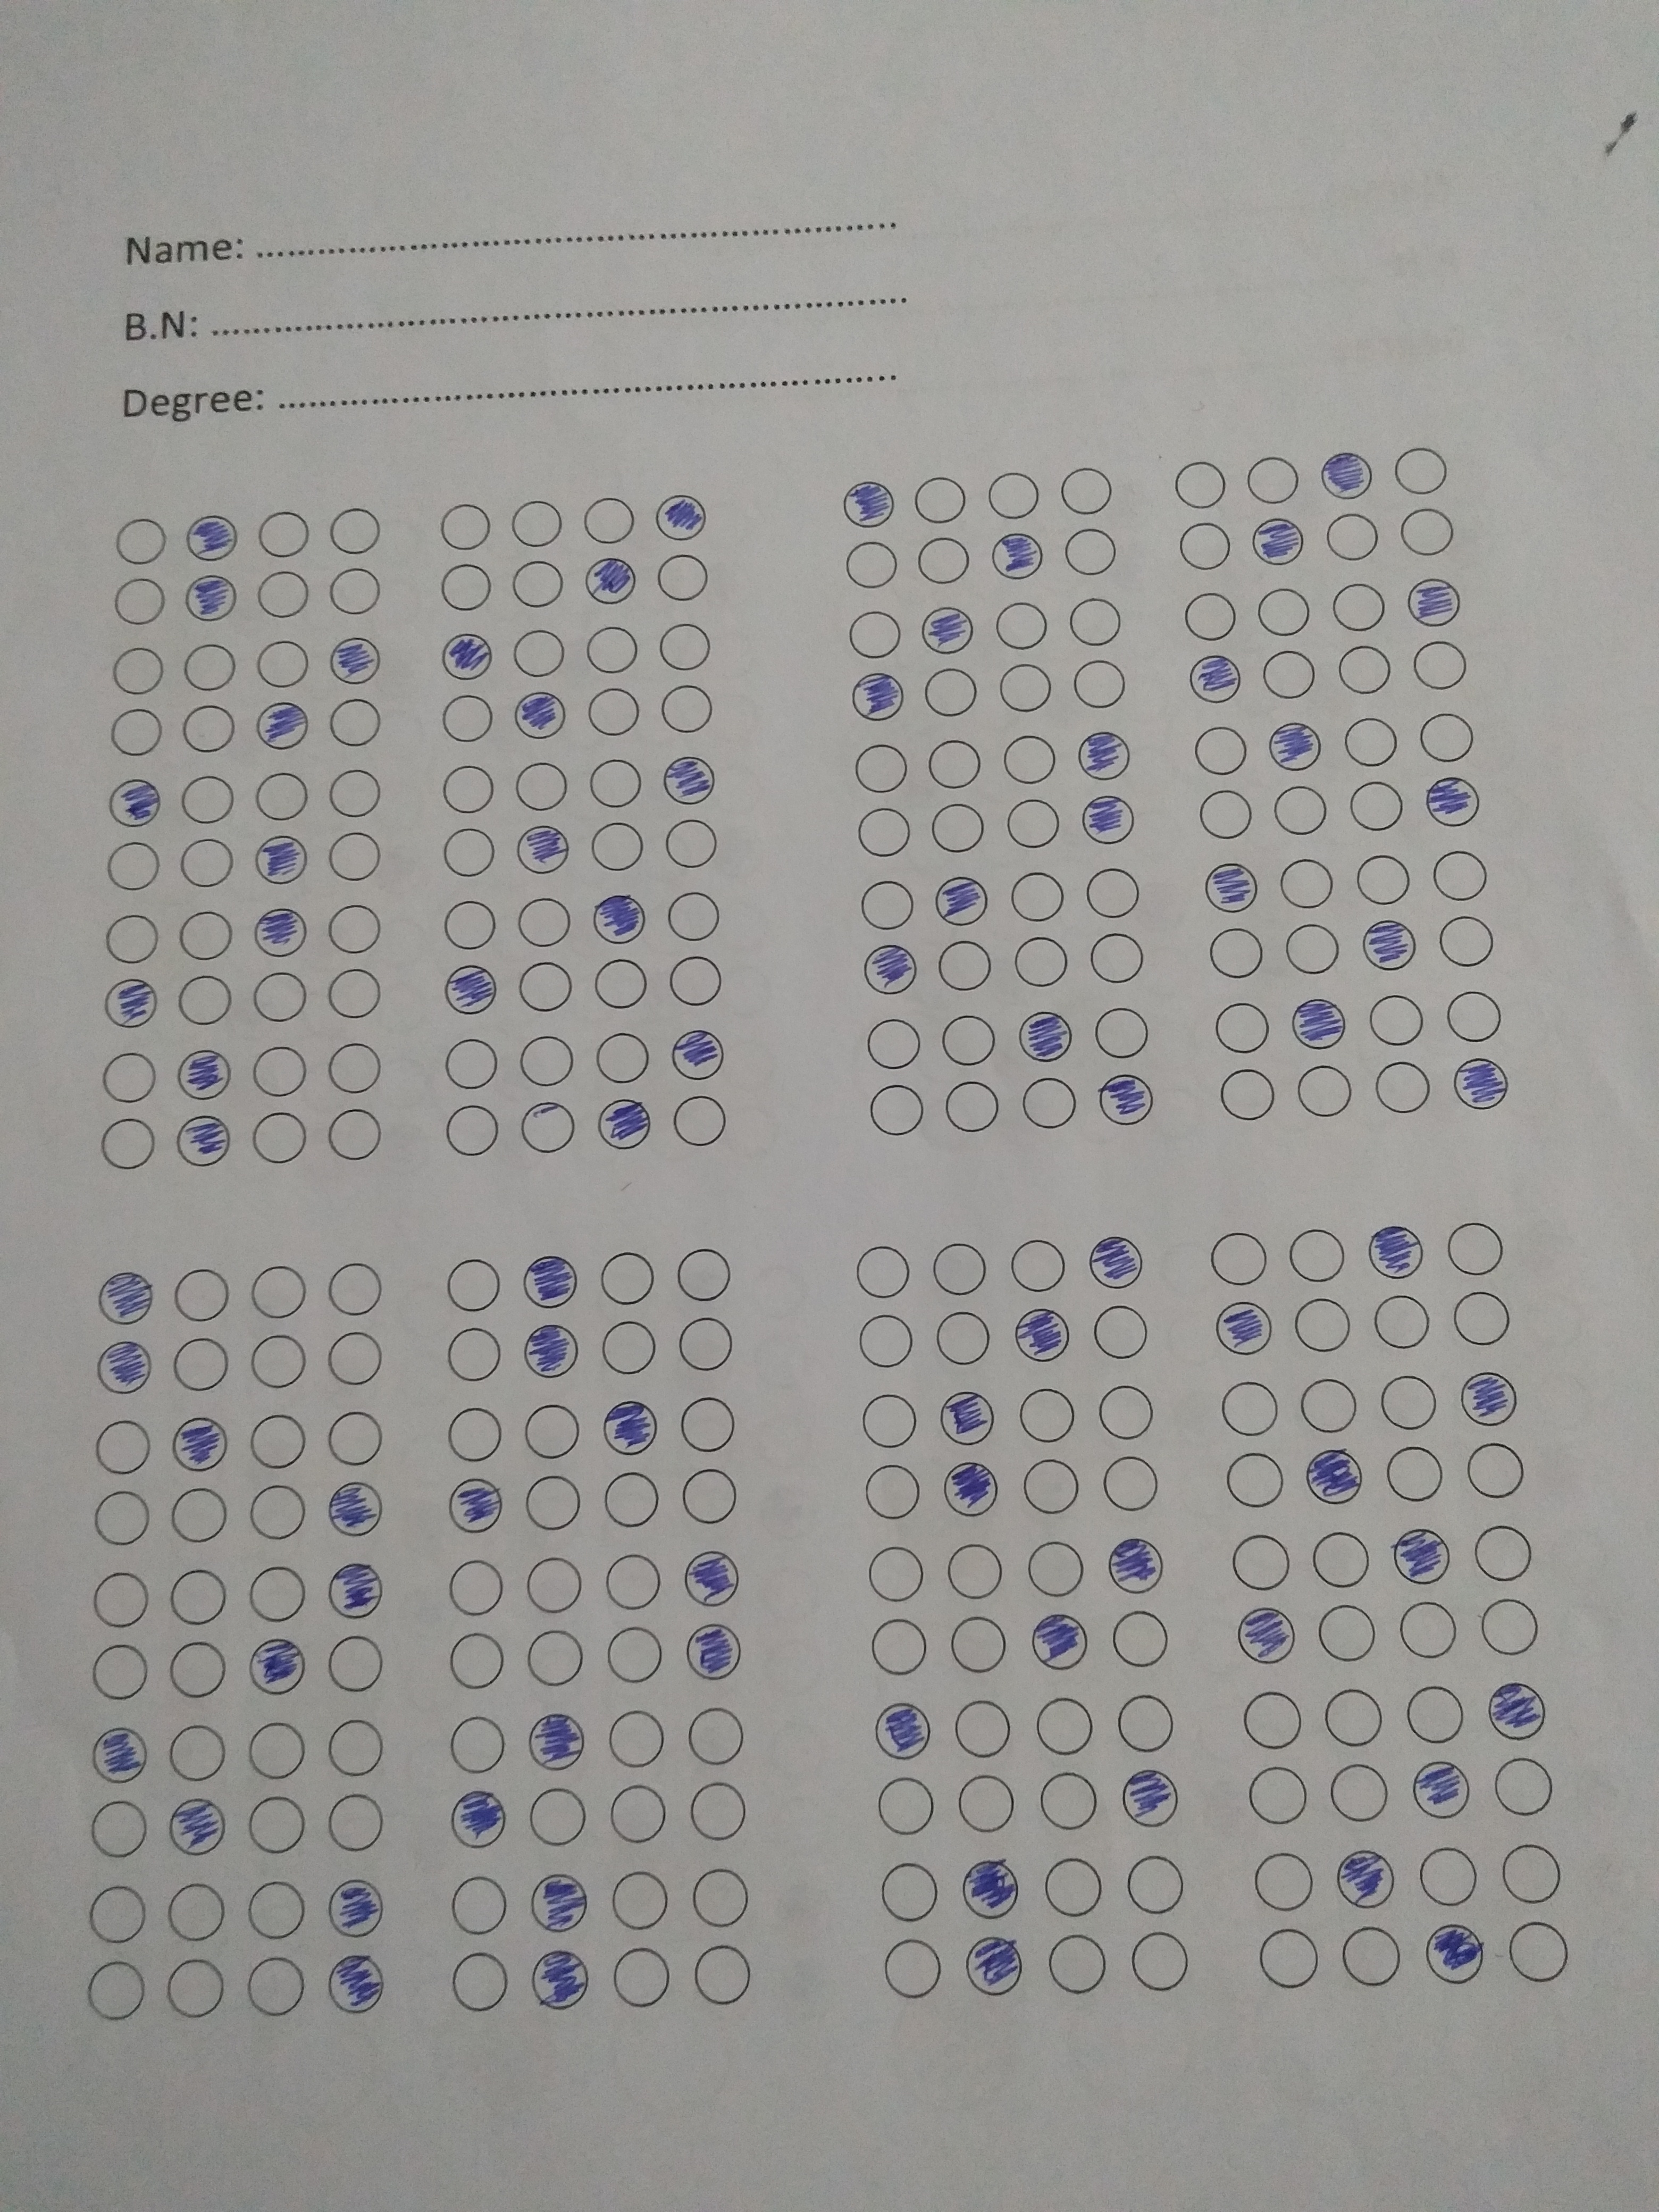not-c: (1394, 1674, 1471, 1749), (1335, 1921, 1412, 1996), (1413, 1839, 1486, 1918), (1108, 1683, 1178, 1764), (240, 1256, 317, 1329), (159, 1878, 232, 1952), (1023, 1526, 1094, 1602), (1286, 1292, 1363, 1362), (683, 1944, 760, 2013), (75, 1958, 153, 2026), (1216, 1367, 1290, 1439), (1290, 1367, 1361, 1440), (922, 1238, 1000, 1305), (1321, 1757, 1392, 1829), (239, 1792, 312, 1862), (606, 1940, 674, 2015), (1298, 1524, 1375, 1590), (685, 1775, 749, 1853), (948, 1693, 1019, 1763), (599, 1620, 669, 1691), (242, 1951, 312, 2022), (1107, 1602, 1175, 1676), (1396, 1590, 1462, 1665), (1032, 1684, 1096, 1761), (1046, 1923, 1110, 2000), (155, 1564, 232, 1629), (167, 1261, 246, 1324), (1093, 1378, 1162, 1447), (1253, 1923, 1323, 1993), (863, 1540, 931, 1611), (244, 1411, 315, 1479), (167, 1480, 235, 1552), (84, 1797, 155, 1865), (80, 1881, 152, 1949), (446, 1947, 518, 2015), (505, 1031, 579, 1097), (509, 1092, 582, 1158), (1084, 1298, 1150, 1371), (324, 1630, 390, 1703), (162, 1952, 228, 2026), (237, 1559, 314, 1622), (1220, 1446, 1290, 1514), (1229, 1527, 1297, 1597), (863, 1456, 932, 1524), (1239, 1686, 1309, 1754), (1246, 1763, 1316, 1831), (1495, 1841, 1563, 1911), (1506, 1919, 1575, 1987), (317, 1261, 387, 1329), (443, 1627, 512, 1695), (519, 1623, 589, 1691), (525, 1785, 592, 1855), (850, 1237, 922, 1303), (518, 1474, 589, 1540), (321, 1717, 392, 1784), (437, 1254, 511, 1318), (603, 1782, 676, 1846), (683, 1867, 756, 1932), (82, 1642, 157, 1705), (669, 1087, 737, 1155), (1441, 1214, 1509, 1282), (880, 1933, 948, 2001), (1492, 1752, 1560, 1820), (444, 1710, 512, 1778), (1096, 1454, 1162, 1524), (948, 1611, 1014, 1681), (1122, 1855, 1192, 1921), (674, 1393, 741, 1463), (439, 1555, 509, 1622), (1004, 1240, 1075, 1305), (1279, 1224, 1351, 1289), (1370, 1289, 1441, 1353), (525, 1552, 596, 1616), (687, 1700, 749, 1773), (1056, 458, 1124, 524), (1464, 1439, 1530, 1507), (1476, 1594, 1542, 1662), (878, 1858, 946, 1925), (1040, 1853, 1108, 1919), (931, 1305, 995, 1374), (1373, 1371, 1443, 1435), (1253, 1846, 1317, 1916), (326, 1406, 390, 1475), (441, 1402, 511, 1467), (606, 1709, 671, 1778), (1312, 1604, 1384, 1667), (1037, 1768, 1100, 1839), (1410, 636, 1476, 702), (1319, 1683, 1385, 1749), (91, 1414, 157, 1480), (599, 1550, 666, 1616), (448, 1872, 514, 1939), (943, 1540, 1011, 1604), (1126, 1925, 1190, 1993), (953, 1773, 1016, 1843), (441, 1324, 504, 1393), (1199, 923, 1270, 984), (106, 507, 173, 571), (655, 810, 721, 874), (1204, 1224, 1269, 1291), (324, 1789, 389, 1855), (582, 813, 650, 876), (594, 1028, 657, 1096), (321, 1331, 389, 1393), (80, 1566, 148, 1629), (242, 1719, 310, 1782), (321, 1106, 390, 1167), (1239, 449, 1309, 510), (1276, 923, 1345, 984), (1018, 1381, 1079, 1451), (244, 1484, 314, 1545), (931, 798, 995, 862), (523, 1402, 587, 1467), (1349, 850, 1415, 913), (1427, 845, 1493, 907), (875, 1777, 941, 1839), (669, 1242, 735, 1305), (671, 1313, 737, 1376), (249, 503, 317, 564), (101, 637, 169, 698), (986, 594, 1054, 655), (1270, 852, 1338, 913), (857, 1388, 925, 1449), (606, 1871, 676, 1930), (169, 834, 242, 890), (1209, 1001, 1283, 1057), (1445, 984, 1509, 1047), (1473, 1524, 1537, 1587), (866, 1618, 931, 1681), (660, 888, 727, 949), (1269, 782, 1335, 843), (1021, 1454, 1087, 1515), (247, 765, 315, 824), (244, 1108, 312, 1167), (1396, 503, 1464, 563), (1248, 583, 1316, 643), (901, 469, 971, 526), (1169, 589, 1241, 644), (509, 493, 572, 556), (596, 1318, 659, 1381), (985, 462, 1046, 526), (1349, 775, 1410, 840), (1434, 913, 1495, 977), (598, 1249, 662, 1310), (321, 965, 387, 1024), (101, 1043, 160, 1109), (932, 937, 999, 996), (242, 1879, 308, 1939), (1077, 866, 1145, 923), (1060, 596, 1129, 651), (850, 806, 920, 862), (246, 967, 308, 1028), (1216, 1062, 1279, 1123), (938, 1010, 999, 1073), (247, 1331, 310, 1392), (105, 904, 164, 968), (1258, 650, 1323, 709), (938, 1078, 1002, 1137), (169, 1336, 234, 1395), (169, 1637, 228, 1702), (87, 1489, 153, 1547), (1323, 507, 1384, 568), (864, 1012, 925, 1073), (599, 1470, 660, 1531), (680, 1467, 741, 1527), (167, 1724, 228, 1785), (587, 683, 647, 745), (843, 610, 906, 669), (1330, 580, 1392, 639), (995, 658, 1058, 718), (1190, 721, 1253, 780), (1338, 714, 1401, 773), (1093, 1001, 1152, 1064), (1018, 1076, 1080, 1136), (1066, 657, 1131, 714), (1384, 1442, 1448, 1500), (1413, 711, 1480, 766), (915, 665, 983, 719), (582, 618, 643, 678), (326, 693, 387, 752), (591, 953, 650, 1014), (324, 1040, 383, 1101), (1368, 986, 1427, 1047), (864, 1080, 924, 1141), (857, 1310, 917, 1371), (1452, 1287, 1511, 1348), (1293, 1062, 1356, 1120), (836, 538, 901, 594), (505, 629, 572, 683), (1053, 528, 1121, 580), (505, 554, 565, 613), (254, 634, 314, 693), (439, 690, 498, 749), (439, 759, 498, 819), (247, 1042, 307, 1101), (1000, 730, 1060, 789), (652, 618, 713, 676), (439, 1038, 500, 1096), (444, 1103, 505, 1160), (1171, 456, 1232, 514), (1087, 932, 1145, 993), (176, 702, 239, 758), (584, 756, 647, 812), (179, 907, 235, 970), (1176, 521, 1239, 577), (518, 888, 572, 953), (1371, 1059, 1436, 1113), (103, 709, 169, 761), (101, 840, 167, 892), (512, 754, 572, 812), (178, 975, 237, 1033), (669, 954, 728, 1012), (1009, 869, 1068, 927), (322, 568, 383, 624), (324, 902, 385, 958), (854, 742, 915, 798), (1007, 796, 1063, 857), (579, 495, 641, 549), (319, 831, 383, 883), (328, 502, 385, 559), (443, 824, 500, 881), (924, 737, 981, 794), (434, 500, 493, 556), (324, 766, 383, 822), (106, 575, 169, 627), (430, 566, 497, 615), (176, 772, 234, 827), (917, 535, 972, 592), (1335, 641, 1391, 698), (1197, 787, 1256, 841), (1011, 935, 1070, 989), (861, 876, 917, 932), (441, 899, 498, 953), (516, 961, 575, 1014), (659, 683, 713, 738), (179, 644, 237, 697), (98, 1115, 155, 1167), (1392, 446, 1450, 496), (254, 570, 312, 617), (657, 554, 708, 604)
taken-c: (1422, 1919, 1486, 1986), (962, 1932, 1026, 1998), (1335, 1846, 1398, 1912), (247, 1632, 308, 1698), (871, 1700, 934, 1763), (528, 1947, 591, 2010), (1486, 1679, 1546, 1745), (528, 1871, 587, 1937), (960, 1858, 1021, 1921), (1105, 1536, 1168, 1597), (526, 1710, 587, 1773), (326, 1878, 387, 1940), (329, 1952, 389, 2017), (169, 1794, 228, 1858), (1392, 1526, 1453, 1587), (1236, 1604, 1297, 1665), (1412, 1759, 1473, 1820), (1452, 1052, 1511, 1115), (1363, 1223, 1425, 1282), (1303, 1446, 1366, 1505), (1121, 1768, 1180, 1831), (681, 1547, 741, 1609), (1082, 1235, 1147, 1292), (685, 1618, 742, 1683), (1094, 1071, 1155, 1130), (1032, 1611, 1091, 1672), (938, 1388, 997, 1449), (326, 1561, 385, 1622), (450, 1787, 507, 1850), (91, 1723, 148, 1785), (1215, 1298, 1274, 1357), (941, 1458, 1000, 1517), (521, 1252, 580, 1312), (448, 1475, 505, 1536), (329, 1479, 387, 1540), (1420, 775, 1483, 831), (103, 974, 160, 1033), (1267, 718, 1326, 775), (1202, 857, 1260, 916), (1012, 1305, 1072, 1362), (601, 1397, 659, 1456), (169, 1414, 228, 1472), (96, 1339, 153, 1399), (96, 1268, 155, 1325), (1077, 792, 1138, 848), (863, 941, 920, 998), (1016, 1008, 1073, 1066), (106, 775, 166, 831), (1460, 1372, 1520, 1428), (523, 1324, 582, 1379), (1077, 728, 1134, 784), (251, 906, 310, 960), (173, 1049, 234, 1101), (253, 834, 310, 888), (174, 1113, 232, 1167), (1405, 575, 1462, 629), (1290, 995, 1347, 1049), (920, 604, 976, 658), (934, 871, 988, 927), (1361, 918, 1417, 972), (326, 636, 383, 688), (512, 690, 570, 742), (516, 824, 573, 876), (659, 754, 718, 805), (1185, 655, 1244, 705), (183, 571, 237, 625), (183, 510, 239, 563), (591, 894, 647, 946), (444, 963, 500, 1015), (669, 1028, 725, 1080), (1249, 516, 1305, 568), (849, 672, 906, 723), (441, 629, 493, 683), (598, 1097, 652, 1150), (1321, 449, 1375, 502), (254, 700, 310, 751), (582, 556, 638, 606), (990, 531, 1044, 582), (653, 493, 709, 542), (840, 479, 896, 528)
